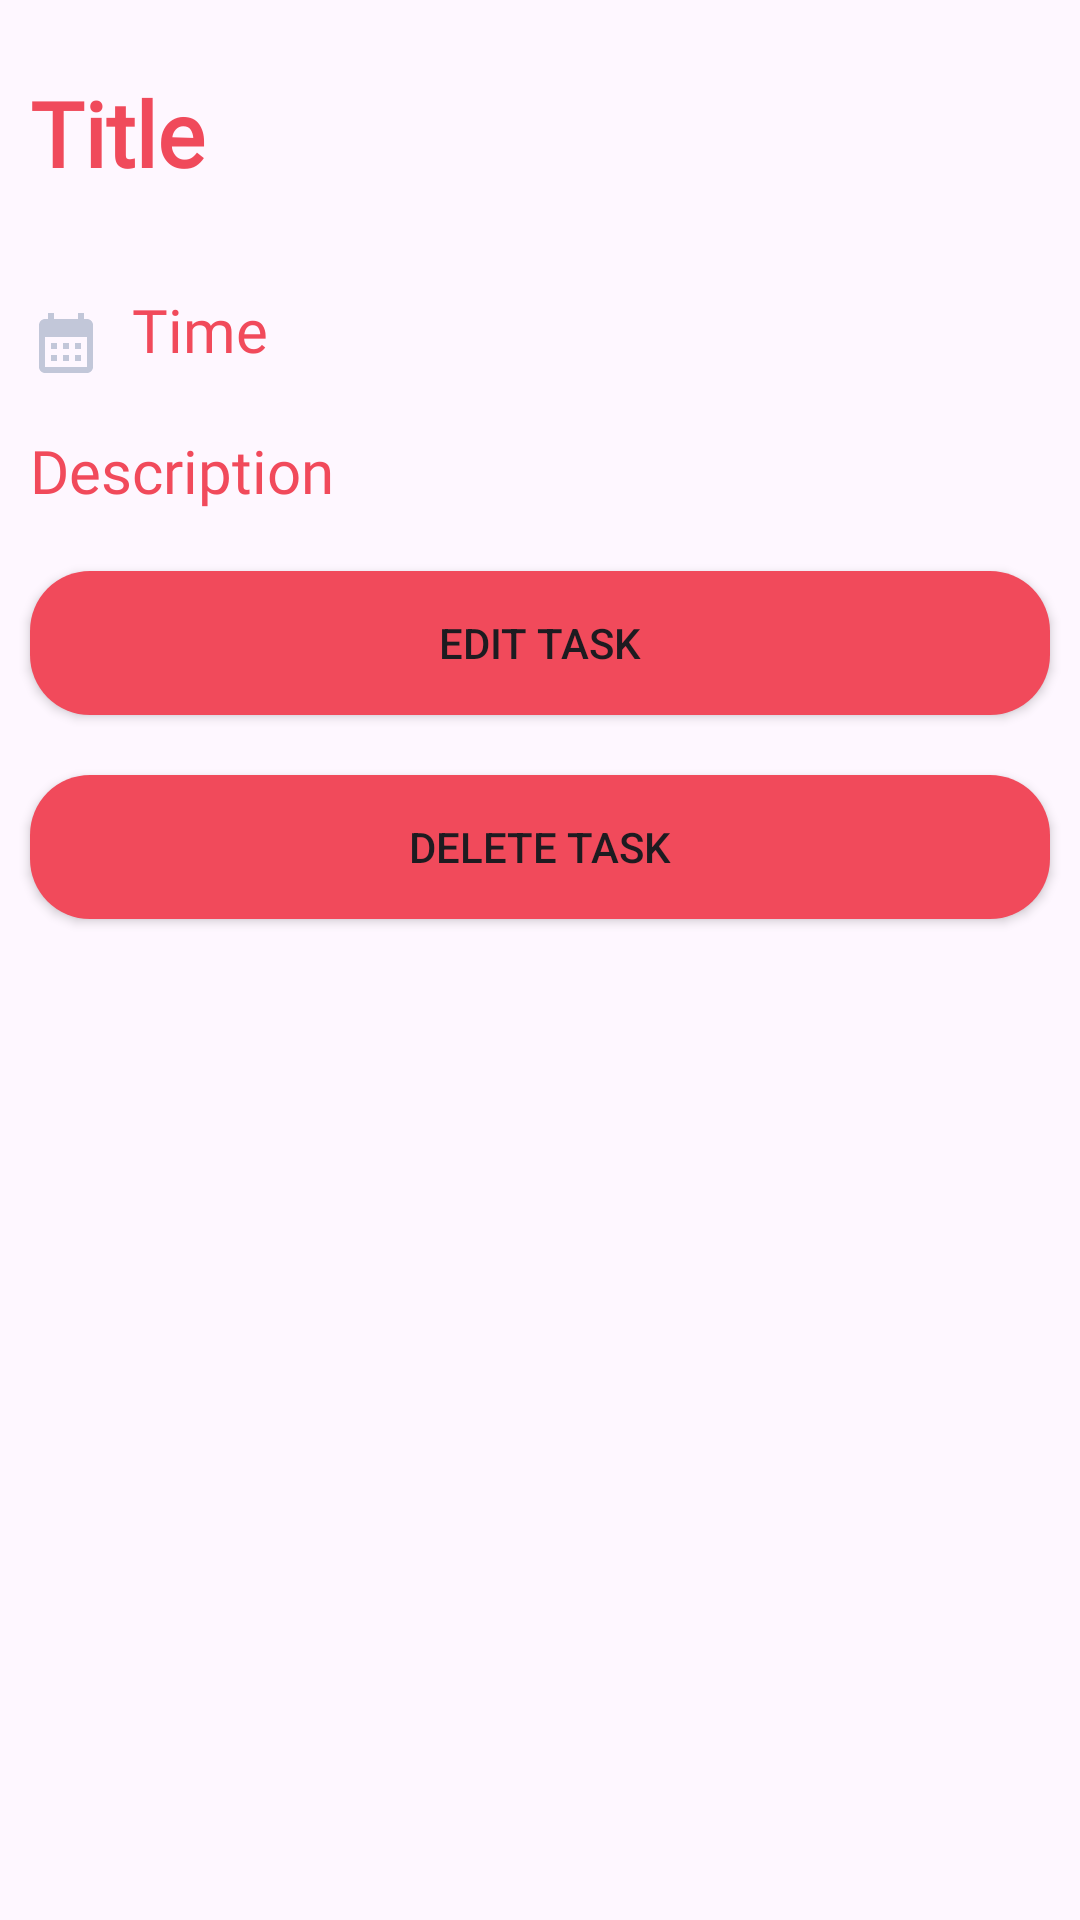

Icons on this 1080*1920 Android screen, each with its box as [x1=x1, y1=y1, x2=x2, y2=y2]:
calendar month: [x1=39, y1=313, x2=93, y2=373]
